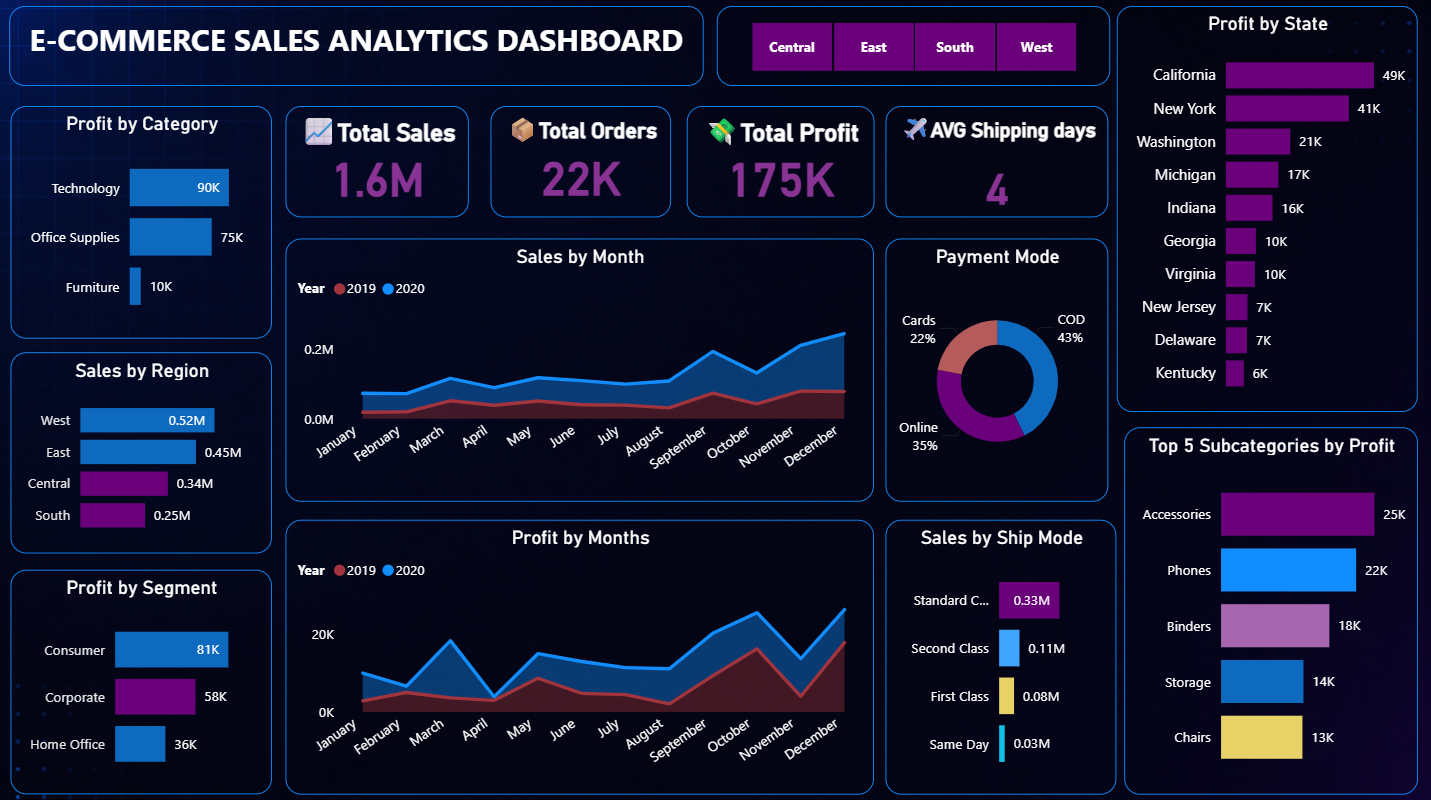

The page's visual inventory and layout, read from the dashboard file:
{"tool":"powerbi","page":{"name":"Page 1","canvas":[1280,720],"ordinal":0},"visuals":[{"type":"clusteredBarChart","title":"Profit by Category","fields":{"Category":["SuperStore_Sales_Dataset.Category"],"Y":["Sum(SuperStore_Sales_Dataset.Profit)"]},"box":[11,98.2,233.1,207.4],"z":0},{"type":"clusteredBarChart","title":"Top 5 Subcategories by Profit","fields":{"Category":["SuperStore_Sales_Dataset.Sub-Category"],"Y":["Sum(SuperStore_Sales_Dataset.Profit)"]},"box":[1003.7,384.1,268.7,327.6],"z":1000},{"type":"clusteredBarChart","title":"Sales by Ship Mode","fields":{"Category":["SuperStore_Sales_Dataset.Ship Mode"],"Y":["Sum(SuperStore_Sales_Dataset.Sales)"]},"box":[791.4,466.3,206.1,245.4],"z":2000},{"type":"stackedAreaChart","title":"Sales by Month ","fields":{"Y":["Sum(SuperStore_Sales_Dataset.Sales)"],"Category":["SuperStore_Sales_Dataset.Order Date.Variation.Date Hierarchy.Month","SuperStore_Sales_Dataset.Order Date.Variation.Date Hierarchy.Day"],"Series":["SuperStore_Sales_Dataset.Order Date.Variation.Date Hierarchy.Year"]},"box":[256.4,216,523.9,234.4],"z":3000},{"type":"stackedAreaChart","title":"Profit by Months","fields":{"Category":["SuperStore_Sales_Dataset.Order Date.Variation.Date Hierarchy.Month","SuperStore_Sales_Dataset.Order Date.Variation.Date Hierarchy.Day"],"Series":["SuperStore_Sales_Dataset.Order Date.Variation.Date Hierarchy.Year"],"Y":["Sum(SuperStore_Sales_Dataset.Profit)"]},"box":[256.4,466.3,523.9,245.4],"z":4000},{"type":"clusteredBarChart","title":"Profit by Segment","fields":{"Category":["SuperStore_Sales_Dataset.Segment"],"Y":["Sum(SuperStore_Sales_Dataset.Profit)"]},"box":[11,510.4,233.1,201.2],"z":5000},{"type":"donutChart","title":"Payment Mode","fields":{"Category":["SuperStore_Sales_Dataset.Payment Mode"],"Y":["Sum(SuperStore_Sales_Dataset.Sales)"]},"box":[790.2,216,198.8,234.4],"z":6000},{"type":"textbox","box":[10.5,9.3,618.6,70.9],"z":7000},{"type":"clusteredBarChart","title":"Sales by Region","fields":{"Category":["SuperStore_Sales_Dataset.Region"],"Y":["Sum(SuperStore_Sales_Dataset.Sales)"]},"box":[11,317.8,233.1,179.1],"z":8000},{"type":"card","title":"📈Total Sales","fields":{"Values":["Sum(SuperStore_Sales_Dataset.Sales)"]},"box":[256.4,98.2,163.2,103.1],"z":9000},{"type":"card","title":"📦Total Orders","fields":{"Values":["Sum(SuperStore_Sales_Dataset.Quantity)"]},"box":[438,98.2,160.7,103.1],"z":10000},{"type":"card","title":"💸Total Profit","fields":{"Values":["Sum(SuperStore_Sales_Dataset.Profit)"]},"box":[613.5,98.2,166.9,100],"z":11000},{"type":"card","title":"✈️AVG Shipping days ","fields":{"Values":["Avg(SuperStore_Sales_Dataset.AvgDelivery)"]},"box":[791.4,98.2,198.8,100],"z":12000},{"type":"clusteredBarChart","title":"Profit by State","fields":{"Category":["SuperStore_Sales_Dataset.State"],"Y":["Sum(SuperStore_Sales_Dataset.Profit)"]},"box":[1003.7,9.8,268.7,362],"z":13000},{"type":"slicer","fields":{"Values":["SuperStore_Sales_Dataset.Region"]},"box":[640.5,9.8,349.7,71.2],"z":14000}]}

Visuals, with their boxes in screenshot pixels (x1, y1, x2, y2), scaled from the page's 1280x720 canvas onto the 1431x800 screenshot:
"Profit by Category" clusteredBarChart: <box>12,109,273,340</box>
"Top 5 Subcategories by Profit" clusteredBarChart: <box>1122,427,1423,791</box>
"Sales by Ship Mode" clusteredBarChart: <box>885,518,1115,791</box>
"Sales by Month " stackedAreaChart: <box>287,240,872,500</box>
"Profit by Months" stackedAreaChart: <box>287,518,872,791</box>
"Profit by Segment" clusteredBarChart: <box>12,567,273,791</box>
"Payment Mode" donutChart: <box>883,240,1106,500</box>
textbox: <box>12,10,703,89</box>
"Sales by Region" clusteredBarChart: <box>12,353,273,552</box>
"📈Total Sales" card: <box>287,109,469,224</box>
"📦Total Orders" card: <box>490,109,669,224</box>
"💸Total Profit" card: <box>686,109,872,220</box>
"✈️AVG Shipping days " card: <box>885,109,1107,220</box>
"Profit by State" clusteredBarChart: <box>1122,11,1423,413</box>
slicer - SuperStore_Sales_Dataset.Region: <box>716,11,1107,90</box>
